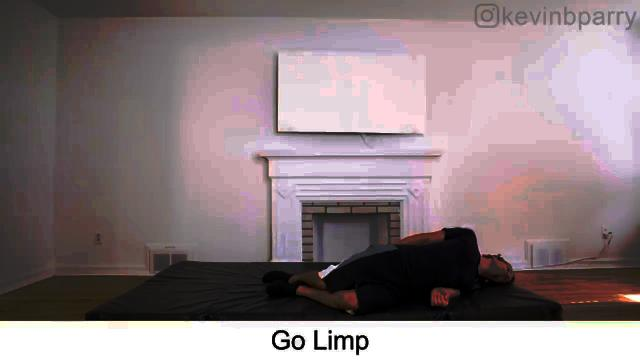jatuh: (252, 214, 530, 320)
